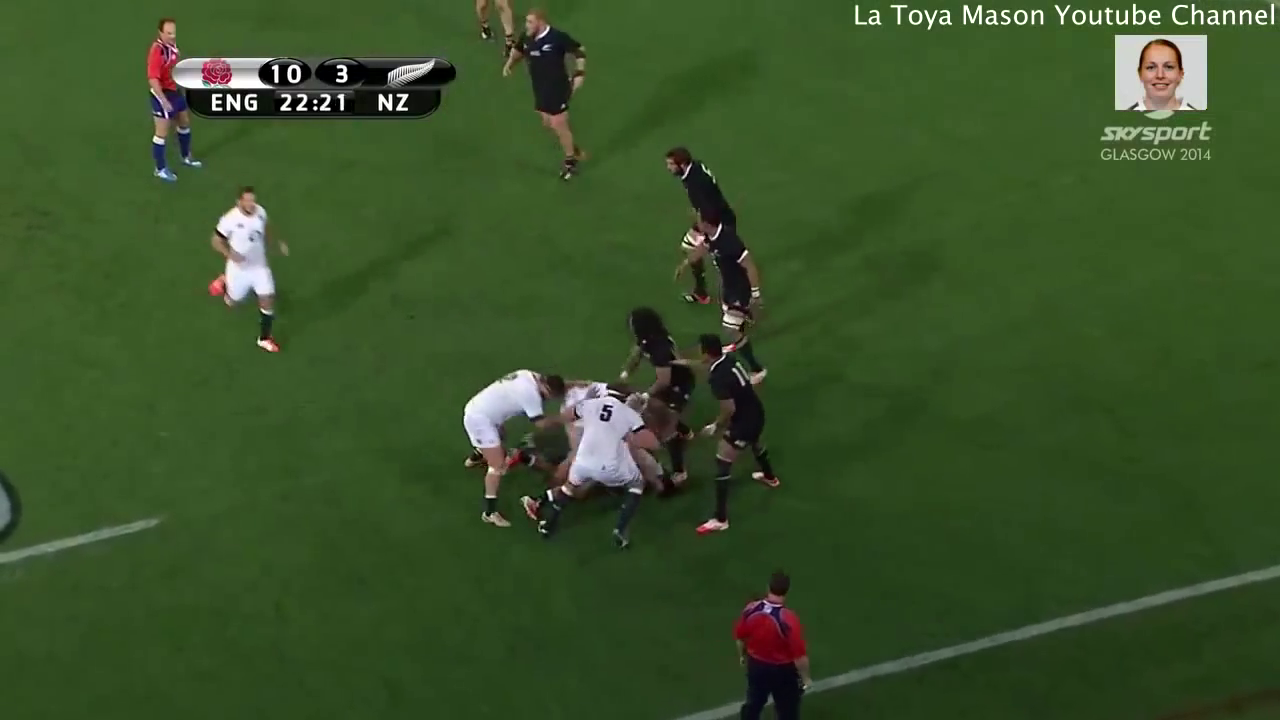player: (689, 333, 798, 539), (500, 2, 605, 187), (193, 180, 298, 364), (459, 356, 569, 526), (557, 382, 654, 549), (611, 300, 698, 407), (687, 207, 770, 316), (652, 139, 743, 215)
ruck: (497, 334, 722, 515)
